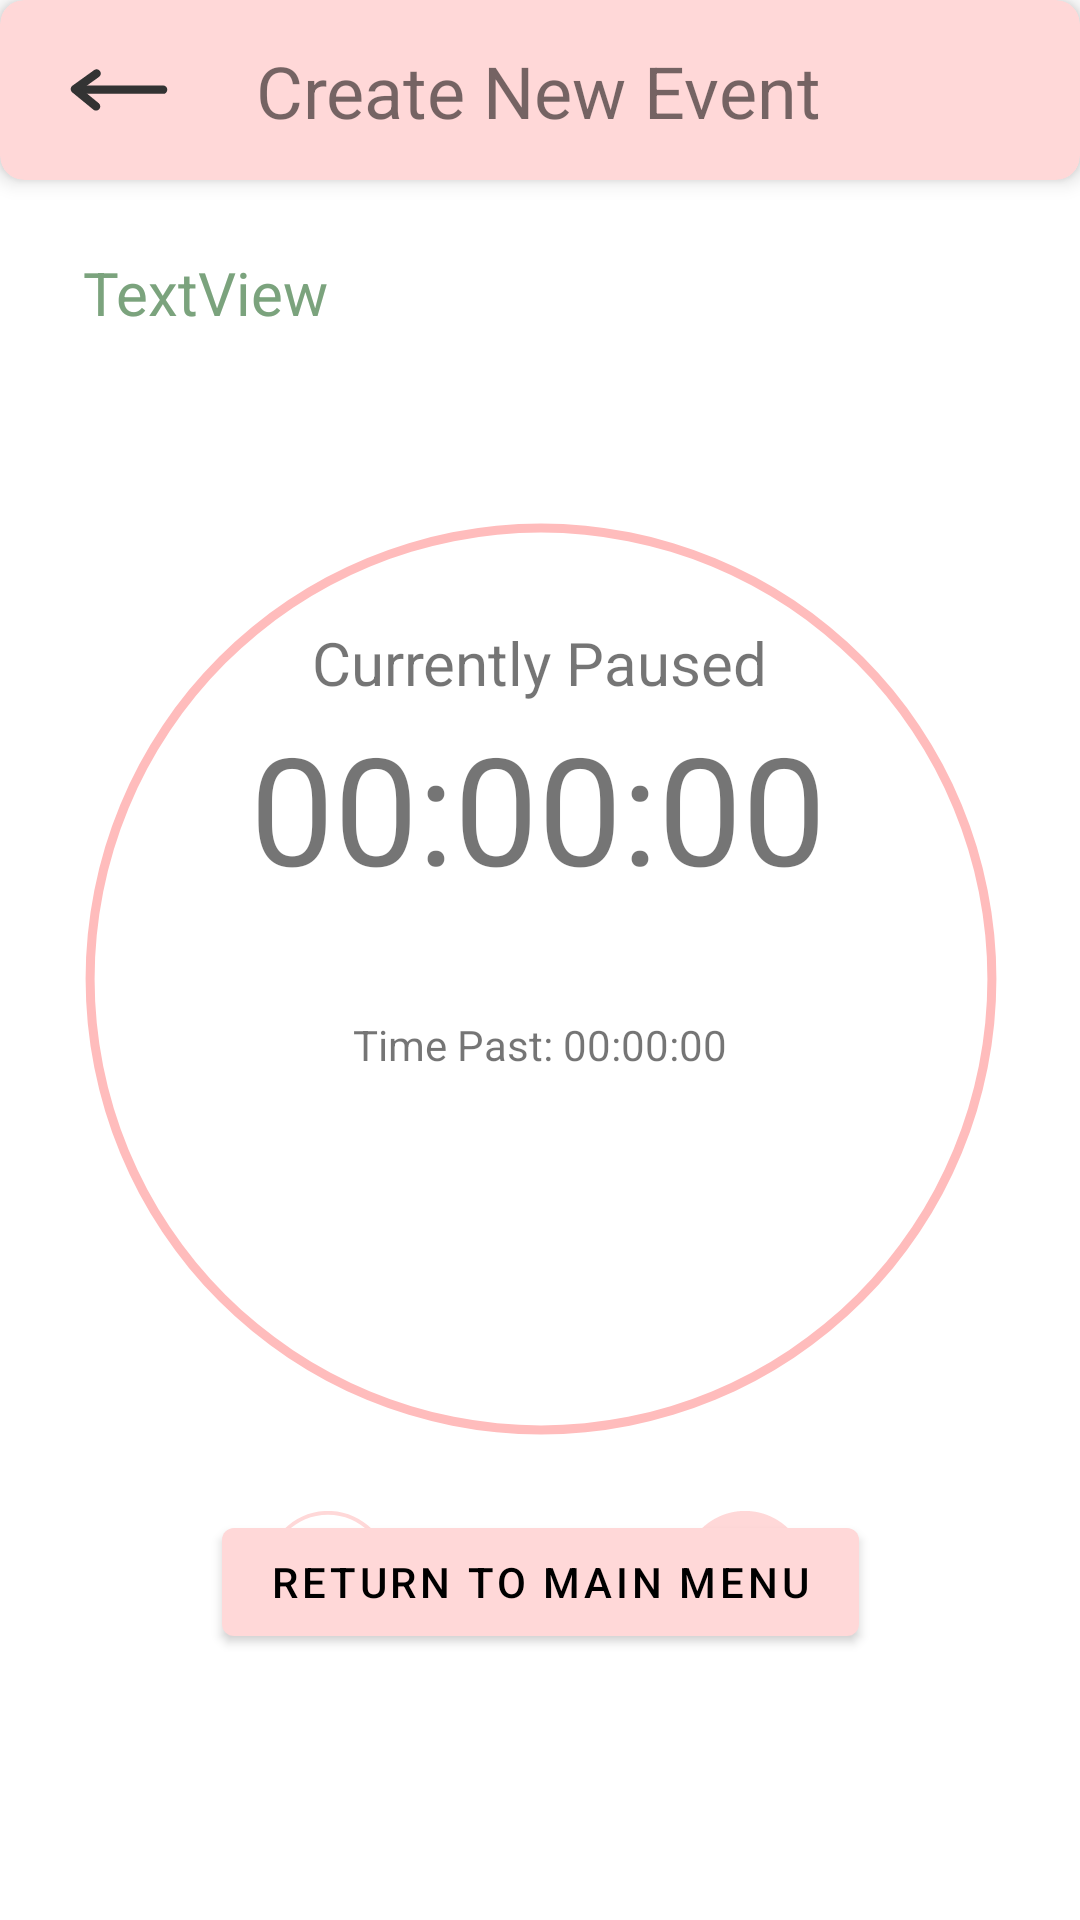

Icon click points for this 1080*1920 phone screenshot, format [x,y]:
return: [119,90]
